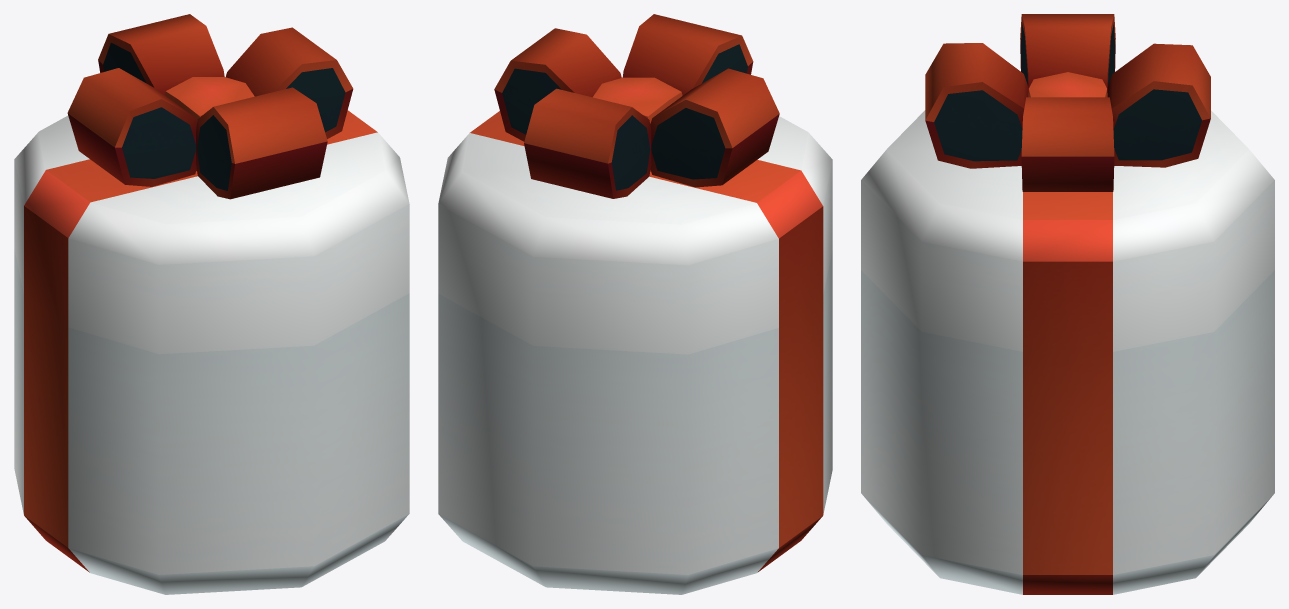
Rendered from presi_round_2_white.fbx.
3 renders of one model, left to right at view 1: azimuth 30°, elevation 25°; view 2: azimuth 150°, elevation 25°; view 3: azimuth 270°, elevation 25°, orthographic.
Visible parts, largest first — view 1: presi_round_2_white; view 2: presi_round_2_white; view 3: presi_round_2_white.
Part boxes in pixels (x1,y1,x2,y2): presi_round_2_white: (14,14,409,594); presi_round_2_white: (438,14,832,594); presi_round_2_white: (861,14,1274,594).
Size of the model in its own units: 93.59 by 123 by 100.
Materials: 1 (1 with a texture image).
